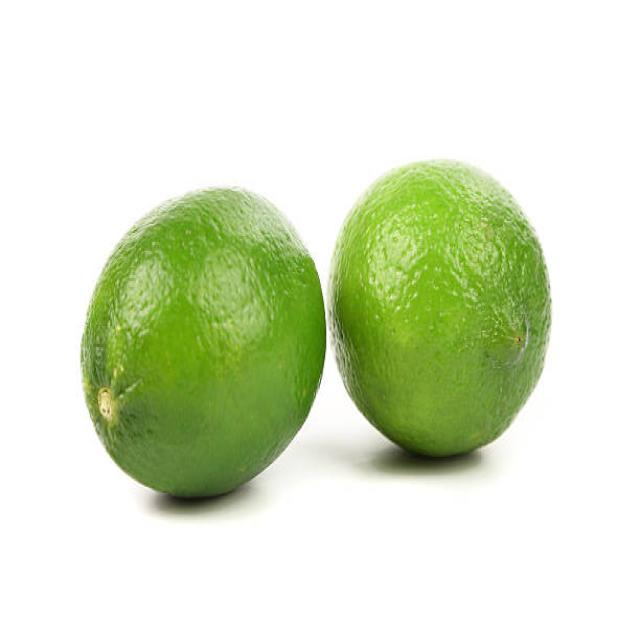Unripe: (80, 184, 326, 502), (327, 156, 552, 459)
